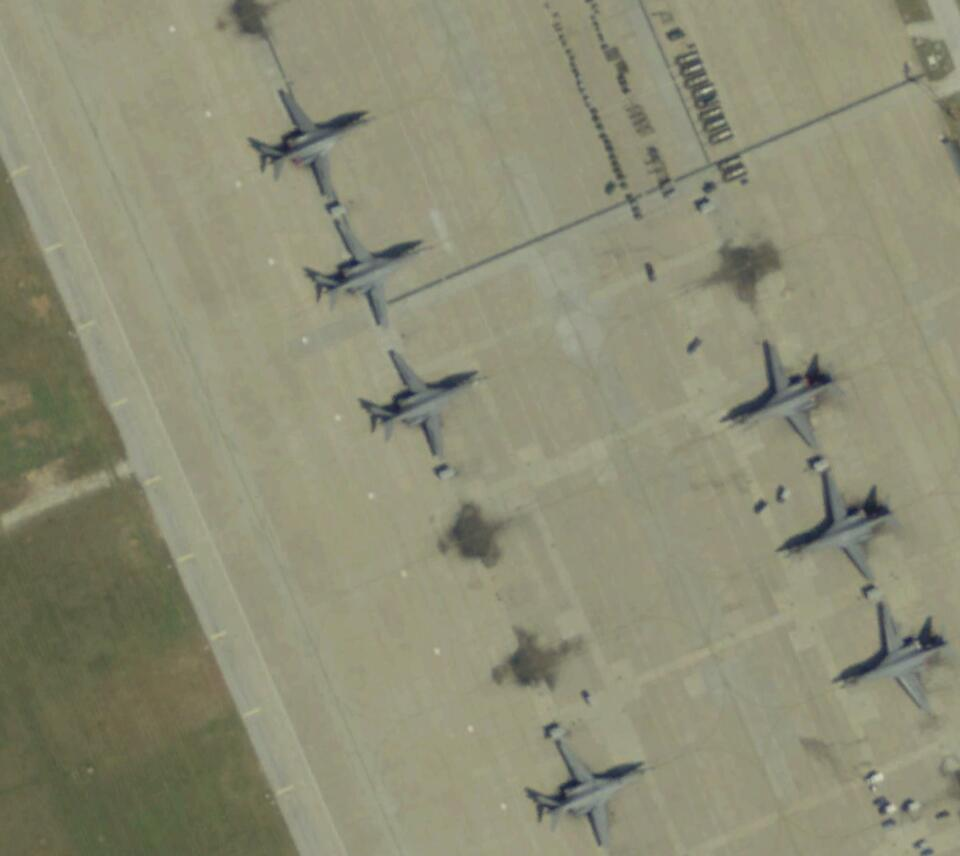A10: (245, 84, 382, 200), (353, 349, 491, 461), (297, 216, 431, 331), (829, 594, 954, 716), (522, 734, 654, 849), (718, 337, 843, 452), (774, 470, 900, 583)
